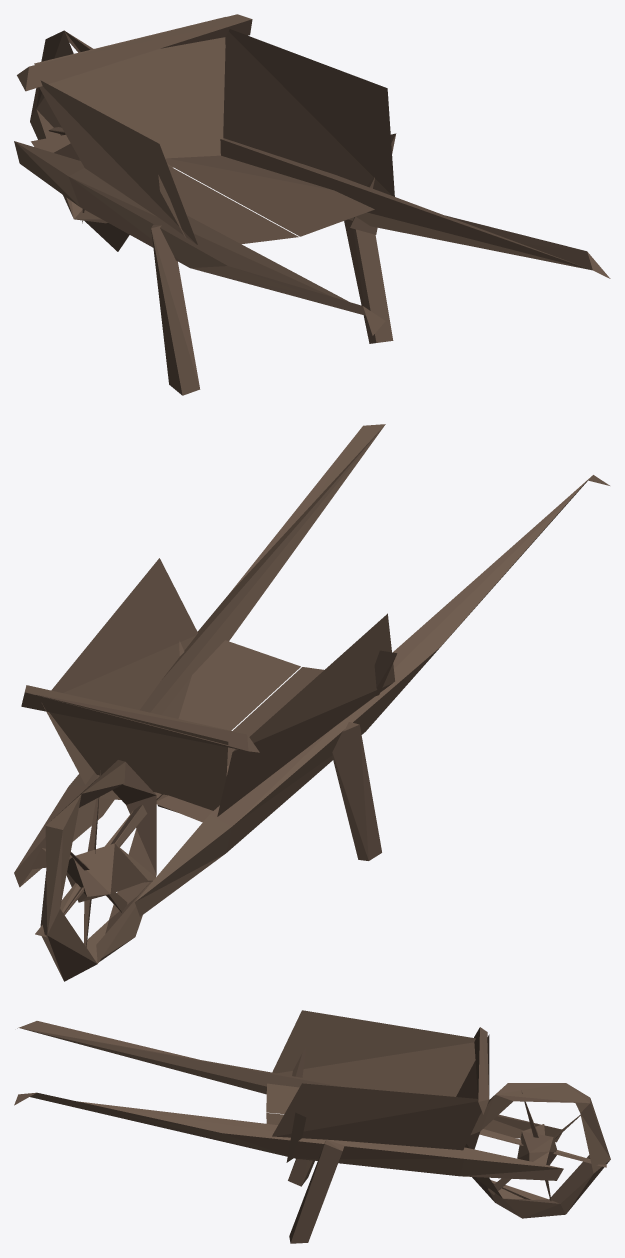
The model's file is barrow.lod1.glb.
3 views of the same model, one above another, from view 1: azimuth 30°, elevation 25°; view 2: azimuth 150°, elevation 25°; view 3: azimuth 270°, elevation 25° (orthographic). The views are drawn at different scales.
Visible parts, largest first — view 1: Cube.007_M_Material_0; view 2: Cube.007_M_Material_0; view 3: Cube.007_M_Material_0.
Boxes of the visible parts, left/top/right/bottom form: Cube.007_M_Material_0: left=14, top=14, right=610, bottom=395; Cube.007_M_Material_0: left=14, top=424, right=609, bottom=981; Cube.007_M_Material_0: left=14, top=1010, right=610, bottom=1243.
Size of the model in its own units: 0.601 by 0.6222 by 1.99.
